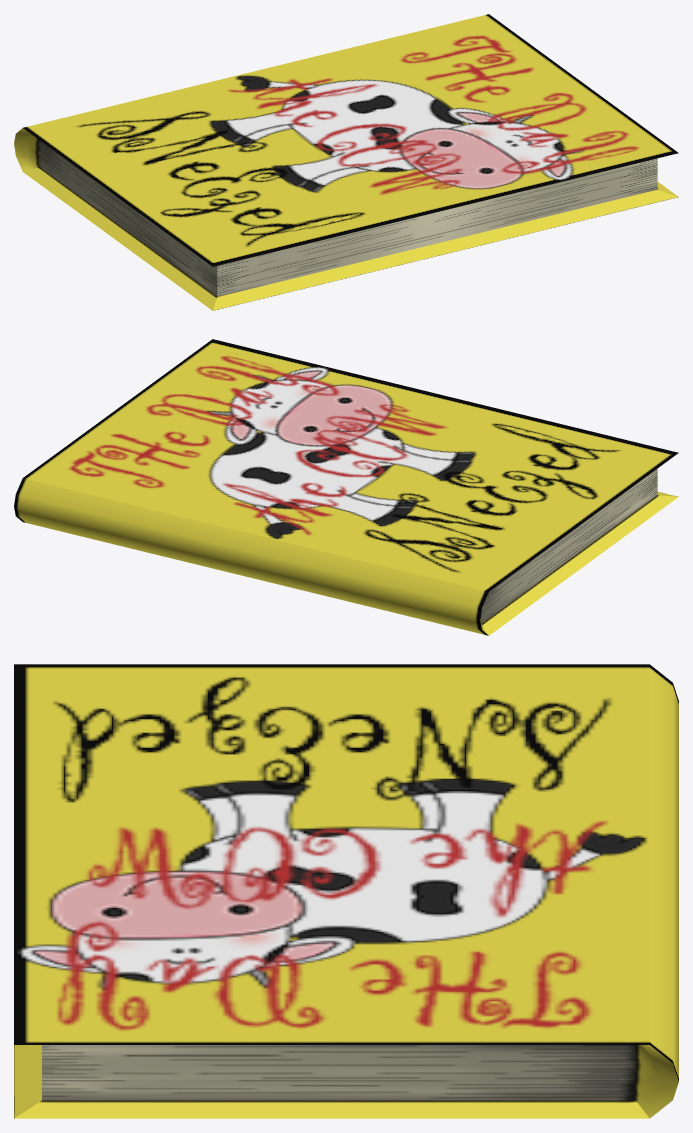
The model's file is Book3.FBX.
The picture shows the model from 3 angles, top to bottom: view 1: azimuth 30°, elevation 25°; view 2: azimuth 150°, elevation 25°; view 3: azimuth 270°, elevation 25°; orthographic projection. The views are drawn at different scales.
Visible parts, largest first — view 1: RoadKillOut001; view 2: RoadKillOut001; view 3: RoadKillOut001.
Boxes of the visible parts, x1,y1,x2,y2 form: RoadKillOut001: (14, 14, 678, 310); RoadKillOut001: (14, 339, 678, 635); RoadKillOut001: (14, 664, 678, 1118).
Size of the model in its own units: 38.95 by 3.51 by 28.75.
Materials: 1 (1 with a texture image).
